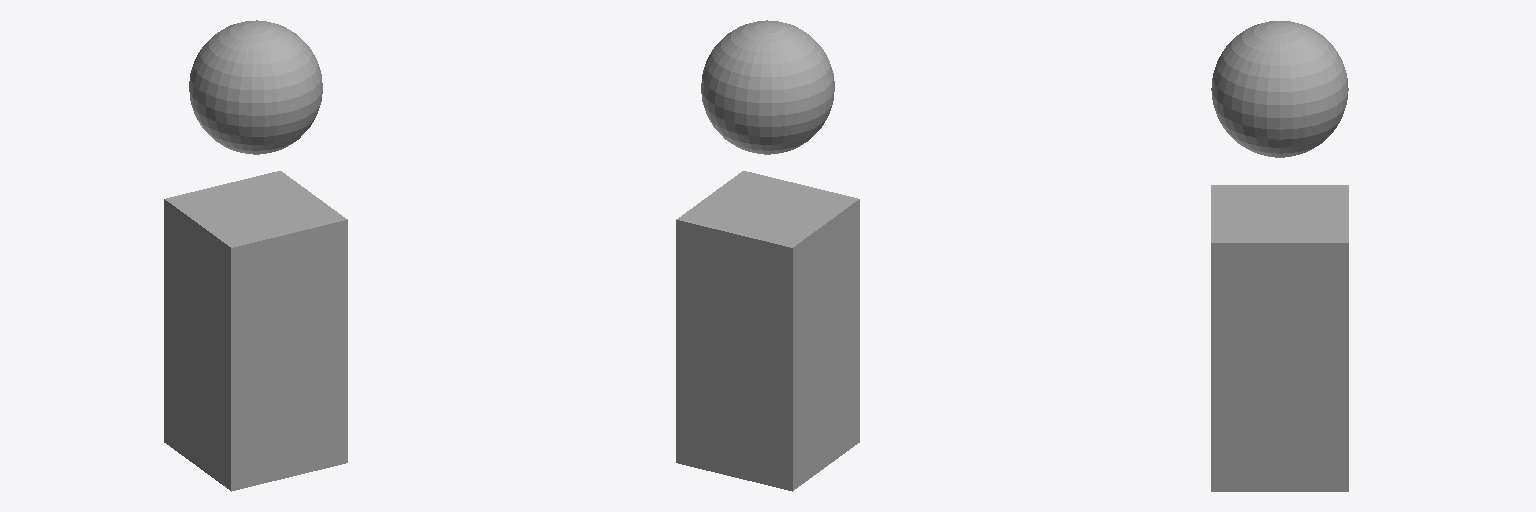
URDF robot description (primitive_geometry):
<?xml version="1.0" ?>
<robot name="primitive_geometry">

  <joint name="world_joint" type="fixed">
    <parent link="world"/>
    <child link="base_link"/>
    <origin rpy="0.0 0.0 0.0" xyz="0.0 0.0 0.0"/>
  </joint>
  <joint name="joint1" type="continuous">
    <parent link="base_link"/>
    <child link="link1"/>
    <origin rpy="0.0 0.0 0.0" xyz="0.0 0.0 0.1"/>
    <axis xyz="0 0 1"/>
  </joint>
  <joint name="joint2" type="continuous">
    <parent link="link1"/>
    <child link="link2"/>
    <origin rpy="0.0 0.0 0.0" xyz="0.0 0.0 0.2"/>
    <axis xyz="0 1 0"/>
  </joint>
  <joint name="ee_joint" type="fixed">
    <origin rpy="0 0 0" xyz="0 0 0.1"/>
    <parent link="link2"/>
    <child link="ee_link"/>
  </joint>

  <link name="world"/>
  <link name="base_link">
    <inertial>
      <mass value="1.0"/>
      <origin rpy="0 0 0" xyz="0.0 0.0 0.0"/>
      <inertia ixx="0.01" ixy="0.0" ixz="0.0" iyy="0.01" iyz="0.0" izz="0.01"/>
    </inertial>
  </link>
  <link name="link1">
    <inertial>
      <mass value="1.0"/>
      <origin rpy="0 0 0" xyz="0.0 0.0 0.0"/>
      <inertia ixx="0.01" ixy="0.0" ixz="0.0" iyy="0.01" iyz="0.0" izz="0.01"/>
    </inertial>
    <visual>
      <geometry>
        <box size="0.1 0.1 0.2"/>
      </geometry>
      <material name="LightGrey">
        <color rgba="0.7 0.7 0.7 1.0"/>
      </material>
    </visual>
    <collision>
      <geometry>
        <cylinder radius="0.05" length="0.2"/>
      </geometry>
    </collision>
  </link>
  <link name="link2">
    <inertial>
      <mass value="1.0"/>
      <origin rpy="0 0 0" xyz="0.0 0.0 0.0"/>
      <inertia ixx="0.01" ixy="0.0" ixz="0.0" iyy="0.01" iyz="0.0" izz="0.01"/>
    </inertial>
    <visual>
      <geometry>
        <sphere radius="0.05"/>
      </geometry>
      <material name="LightGrey">
        <color rgba="0.7 0.7 0.7 1.0"/>
      </material>
    </visual>
    <collision>
      <geometry>
        <sphere radius="0.05"/>
      </geometry>
    </collision>
  </link>
  <link name="ee_link"/>
</robot>

--- What the picture shows (computed from the rendered views, not written in the file) ---
Views: 3 orthographic renders of the robot side by side, from view 1: azimuth 30°, elevation 25°; view 2: azimuth 150°, elevation 25°; view 3: azimuth 270°, elevation 25°.
Robot: primitive_geometry — 5 links, 4 joints (2 continuous, 2 fixed); root link world; default pose: all joints at 0.
Visible links, largest first — view 1: link1, link2; view 2: link1, link2; view 3: link1, link2.
Link boxes in pixels (box(x1,y1,x2,y2)): link1: box(164, 171, 347, 491); link2: box(189, 20, 322, 154); link1: box(676, 171, 859, 491); link2: box(701, 20, 834, 154); link1: box(1211, 185, 1348, 491); link2: box(1211, 21, 1348, 157).
Bounding box of the posed robot: 0.1 × 0.1 × 0.35 m (x, y, z).
Geometry: primitives only (box / cylinder / sphere), no mesh files.
